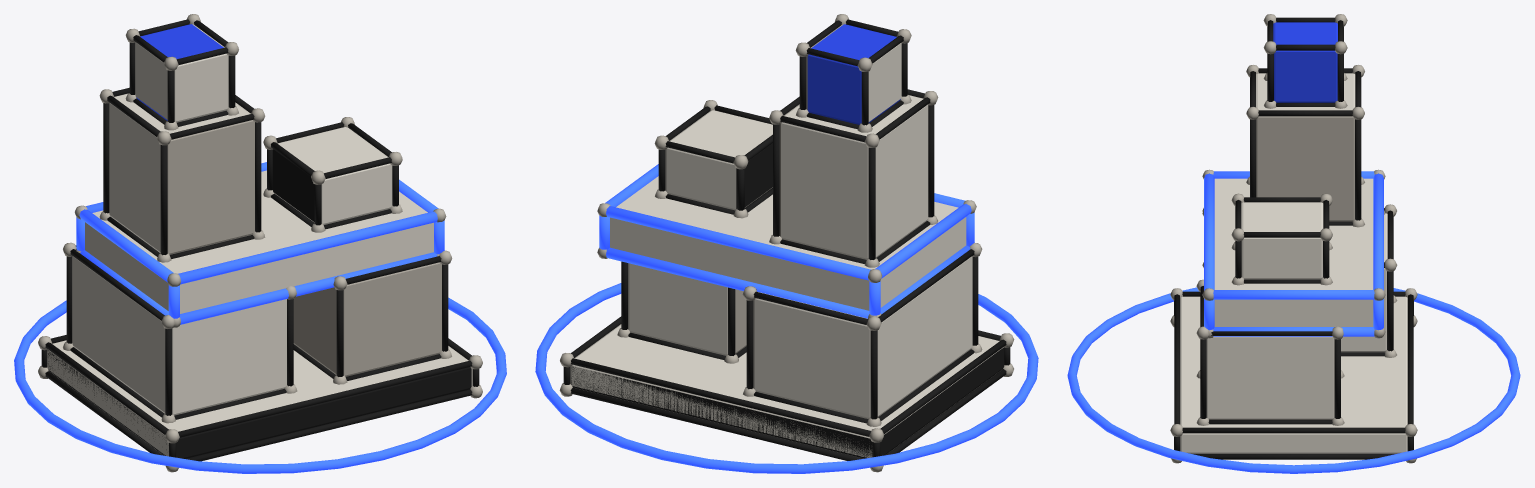
The model's file is process_journey.glb.
3 views of the same model, side by side, from view 1: azimuth 30°, elevation 25°; view 2: azimuth 150°, elevation 25°; view 3: azimuth 270°, elevation 25° (orthographic). The views are drawn at different scales.
Parts seen in each view (by area): view 1: process_02_design, process_03_build, process_01_discovery, process_04_launch; view 2: process_02_design, process_01_discovery, process_03_build, process_04_launch; view 3: process_02_design, process_01_discovery, process_03_build, process_04_launch.
Part boxes in pixels (x1=…): process_02_design: x1=47, y1=24, x2=472, y2=456; process_03_build: x1=47, y1=24, x2=471, y2=458; process_01_discovery: x1=38, y1=14, x2=482, y2=472; process_04_launch: x1=14, y1=162, x2=506, y2=473; process_02_design: x1=570, y1=24, x2=1003, y2=458; process_01_discovery: x1=559, y1=14, x2=1014, y2=472; process_03_build: x1=571, y1=24, x2=1004, y2=458; process_04_launch: x1=535, y1=164, x2=1038, y2=473; process_02_design: x1=1180, y1=73, x2=1407, y2=453; process_01_discovery: x1=1170, y1=14, x2=1417, y2=463; process_03_build: x1=1180, y1=22, x2=1407, y2=423; process_04_launch: x1=1067, y1=171, x2=1520, y2=473.
Bounding box in the file's own units: 1.55 × 1.27 × 1.55.
